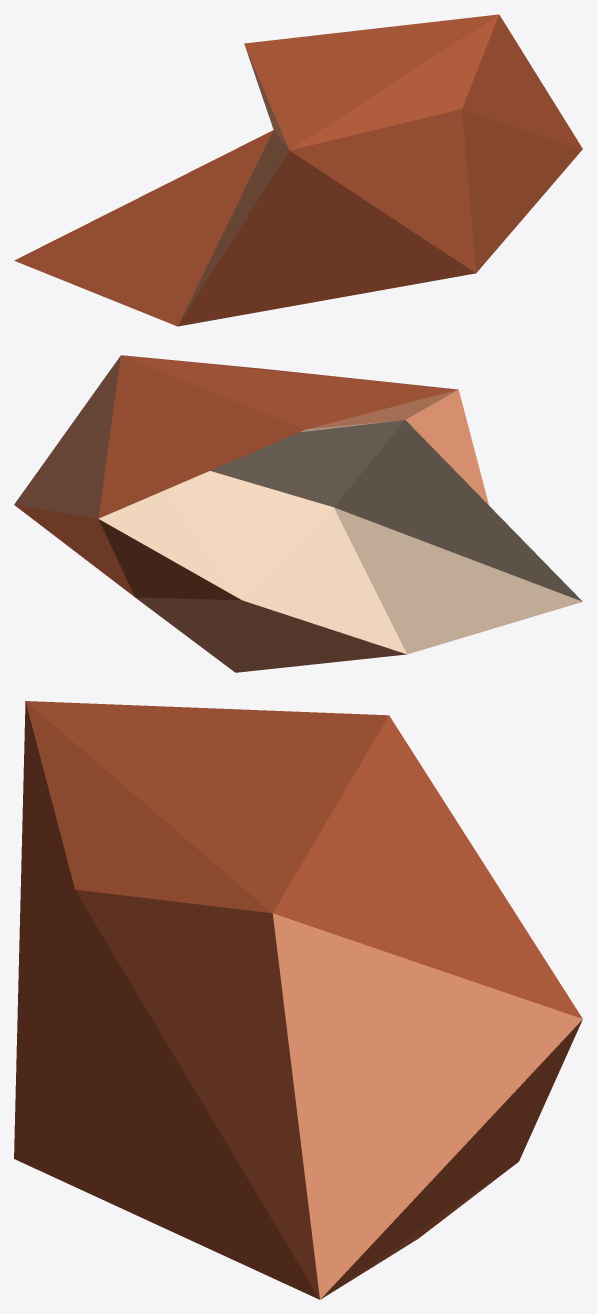
File: shell.obj
The picture shows the model from 3 angles, top to bottom: view 1: azimuth 30°, elevation 25°; view 2: azimuth 150°, elevation 25°; view 3: azimuth 270°, elevation 25°; orthographic projection. The views are drawn at different scales.
Visible parts, largest first — view 1: Shell; view 2: Shell; view 3: Shell.
Part boxes in pixels (bbox=[...]): Shell: bbox=[14, 14, 582, 326]; Shell: bbox=[14, 355, 582, 672]; Shell: bbox=[14, 701, 582, 1299].
Size of the model in its own units: 74.64 by 32.12 by 35.47.
Materials: 1 (1 with a texture image).
